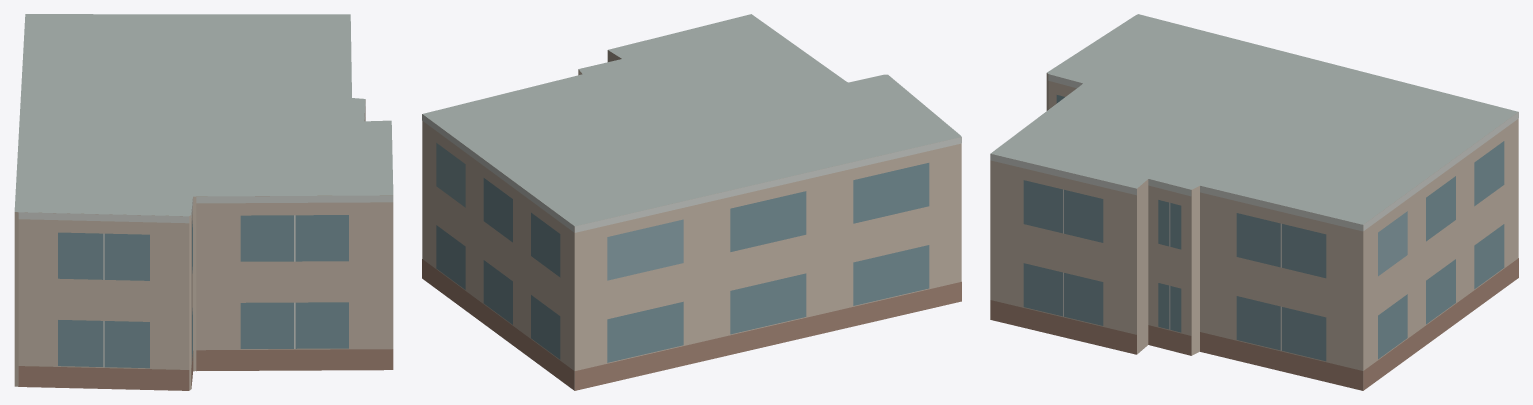
The model's file is survey-upis-32519719.glb.
The picture shows the model from 3 angles, left to right: view 1: azimuth 30°, elevation 25°; view 2: azimuth 150°, elevation 25°; view 3: azimuth 270°, elevation 25°; orthographic projection. The views are drawn at different scales.
Visible parts, largest first — view 1: survey-upis-32519719.tmp; view 2: survey-upis-32519719.tmp; view 3: survey-upis-32519719.tmp.
Part boxes in pixels (<box>): survey-upis-32519719.tmp: <box>14,14,393,390</box>; survey-upis-32519719.tmp: <box>422,14,961,390</box>; survey-upis-32519719.tmp: <box>990,14,1518,390</box>.
Bounding box in the file's own units: 16.62 × 6.1 × 17.6.
